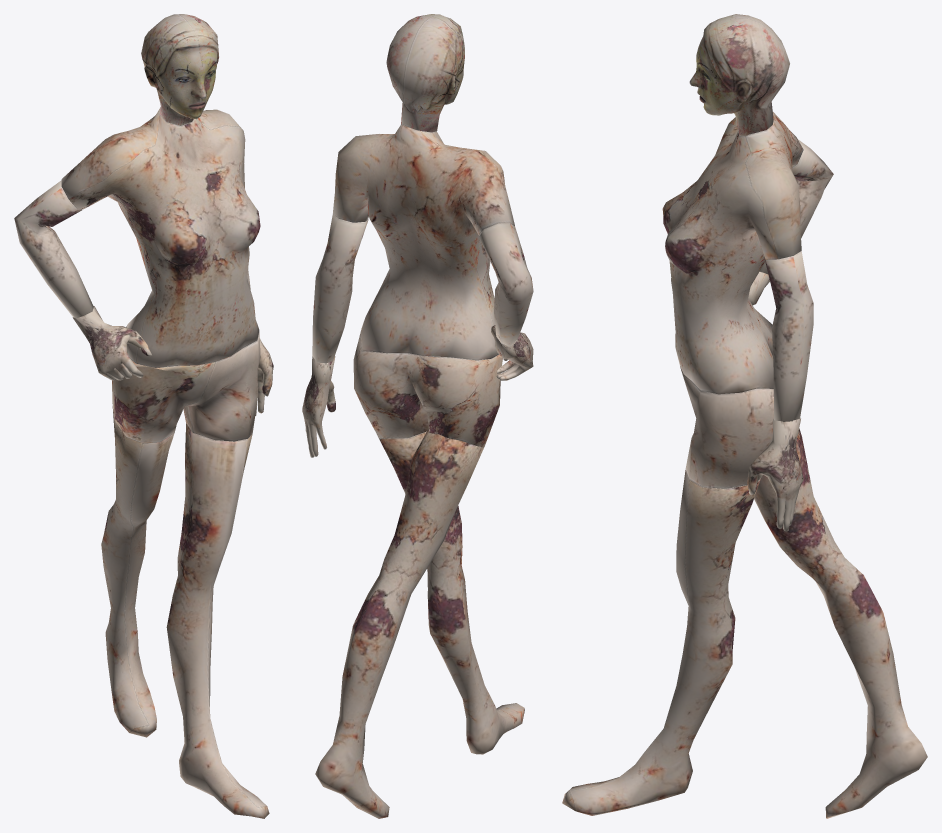
The model's file is mannequin.glb.
3 views of the same model, side by side, from view 1: azimuth 30°, elevation 25°; view 2: azimuth 150°, elevation 25°; view 3: azimuth 270°, elevation 25° (orthographic). The views are drawn at different scales.
Parts seen in each view (by area): view 1: mannequin; view 2: mannequin; view 3: mannequin.
Part boxes in pixels (x1,y1,x2,y2): mannequin: [14, 14, 273, 818]; mannequin: [302, 14, 533, 818]; mannequin: [562, 14, 927, 818].
Bounding box in the file's own units: 0.5934 × 1.8 × 0.7478.
Materials: 1 (1 with a texture image).
